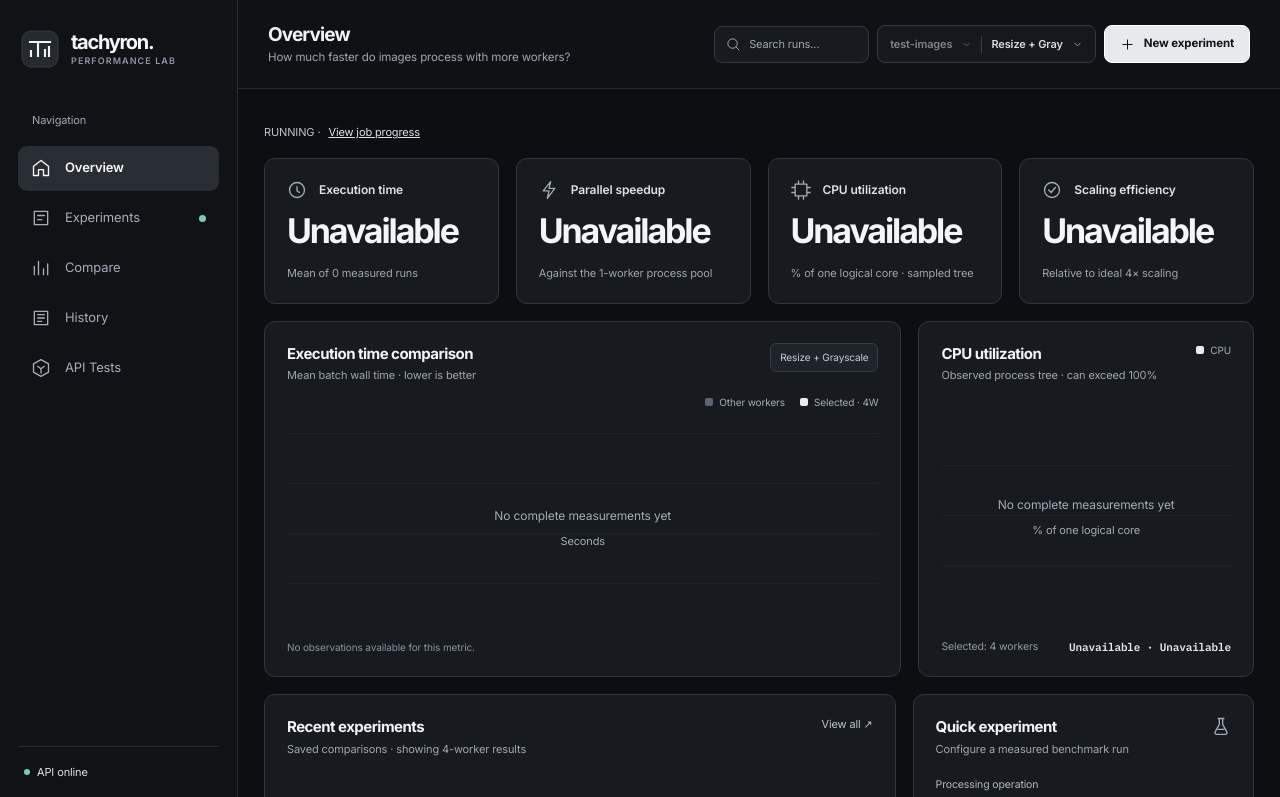
Test: dashboard behavior › uses shared liveness, registry and recovered job state in the compact sidebar
Expected: the text "API online" is shown, [37, 764, 88, 780]
Click the link "API Tests". click: (76, 368)
box: [31, 358, 121, 378]
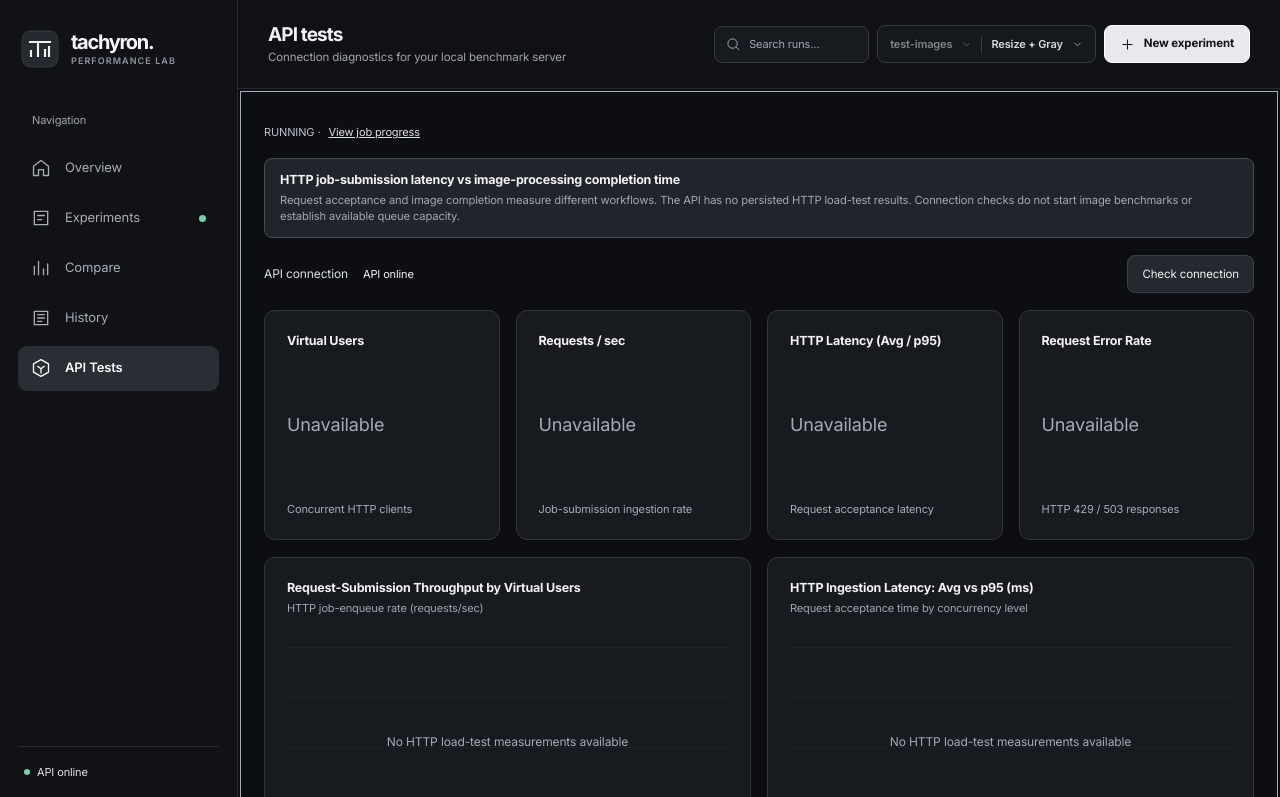
Expected: the text "API online" next to "API connection" is shown, [363, 267, 414, 281]
Click the button "Check connection". click: (1191, 274)
box: [1127, 255, 1254, 293]
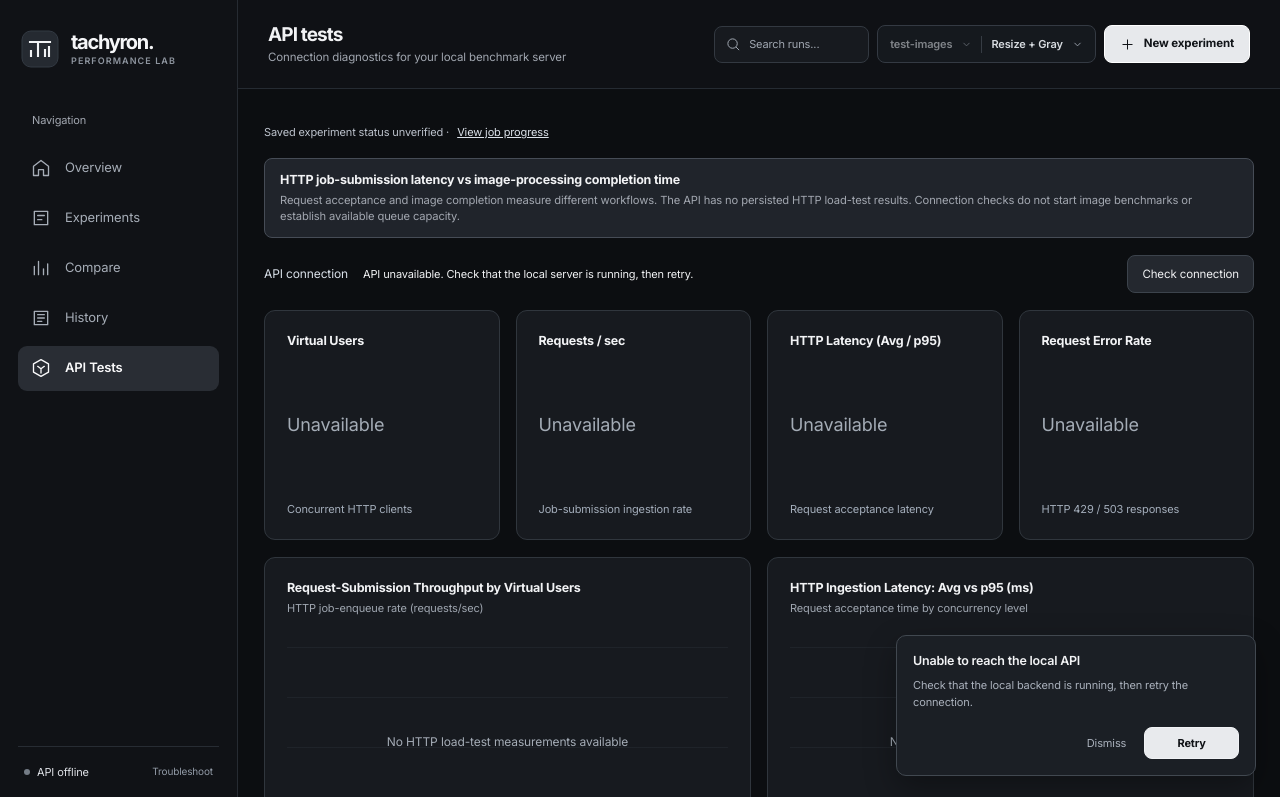
Expected: the text "API offline" is shown, [37, 764, 89, 780]
